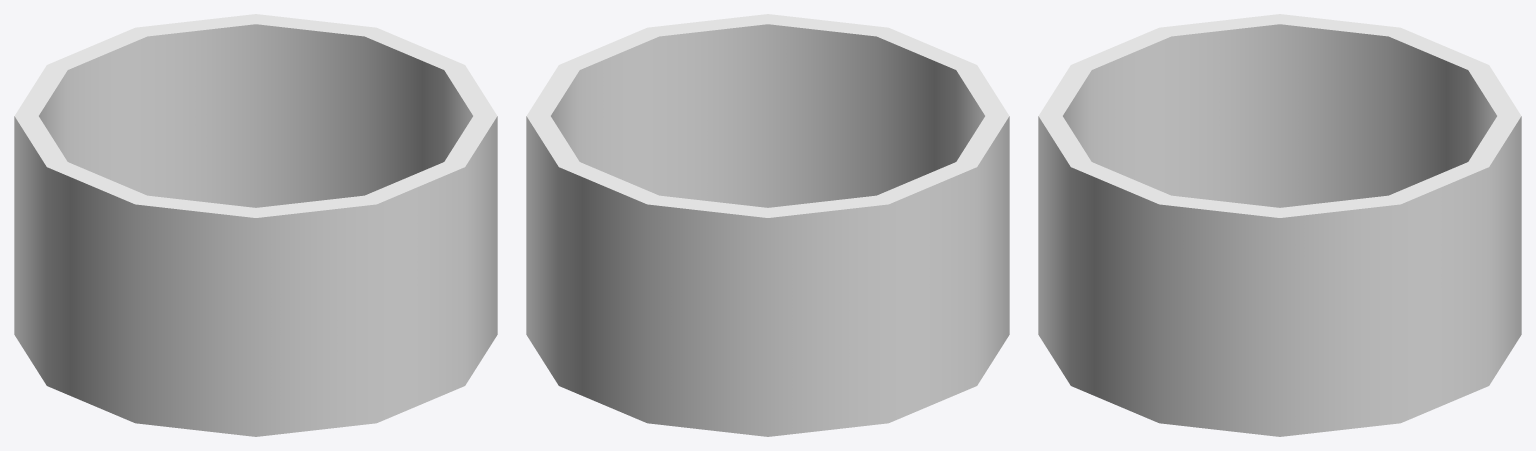
The model's file is ring.fbx.
3 renders of one model, left to right at view 1: azimuth 30°, elevation 25°; view 2: azimuth 150°, elevation 25°; view 3: azimuth 270°, elevation 25°, orthographic.
Visible parts, largest first — view 1: obj1; view 2: obj1; view 3: obj1.
Part boxes in pixels (x1,y1,x2,y2): obj1: (14, 14, 497, 436); obj1: (526, 14, 1009, 436); obj1: (1038, 14, 1521, 436).
Size of the model in its own units: 2 by 1 by 2.
